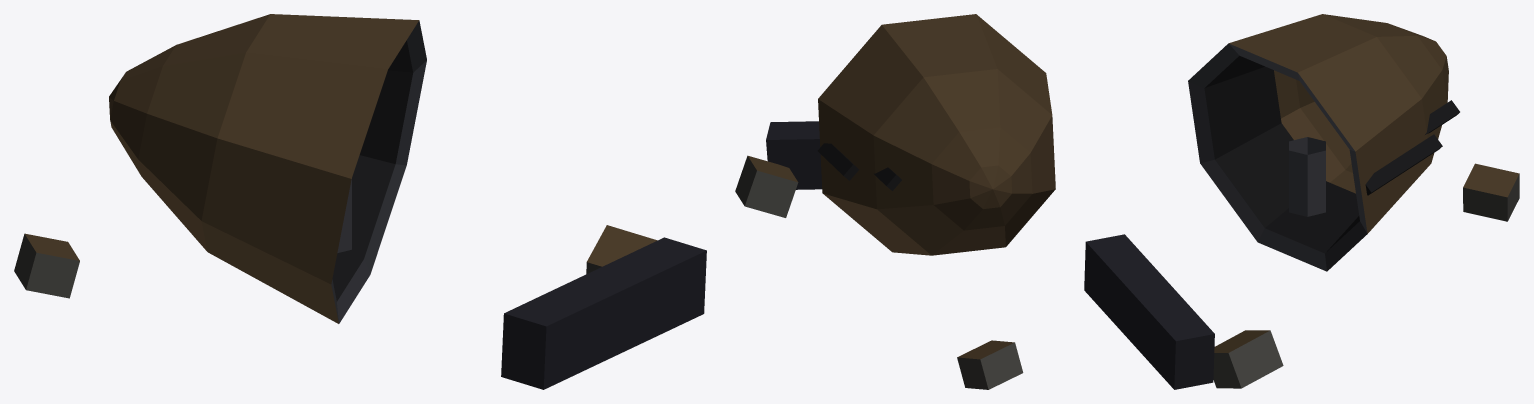
File: fallen-bell.glb
3 views of the same model, side by side, from view 1: azimuth 30°, elevation 25°; view 2: azimuth 150°, elevation 25°; view 3: azimuth 270°, elevation 25° (orthographic). The views are drawn at different scales.
Parts seen in each view (by area): view 1: FallenBell; view 2: FallenBell; view 3: FallenBell.
Part boxes in pixels (box(x1,y1,x2,y2)): FallenBell: box(14, 14, 706, 389); FallenBell: box(735, 14, 1055, 389); FallenBell: box(1084, 14, 1519, 389).
Size of the model in its own units: 1.1 by 0.6311 by 1.02.
1 material, 1 textured.
